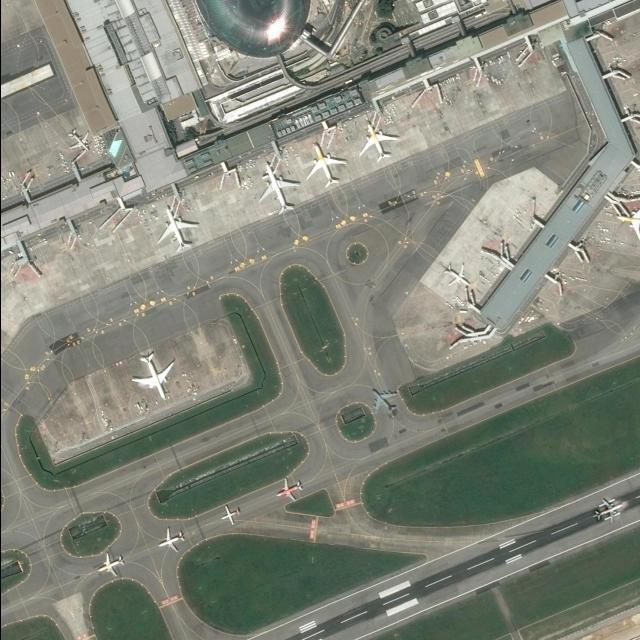Aircraft: (129, 351, 174, 401), (257, 161, 299, 214), (156, 205, 197, 253), (304, 141, 344, 189), (357, 120, 397, 164), (614, 206, 640, 242), (368, 388, 398, 416), (94, 551, 124, 577), (154, 526, 184, 552), (273, 477, 303, 503), (441, 262, 470, 288), (592, 498, 622, 523), (66, 127, 90, 152), (218, 504, 240, 525)
